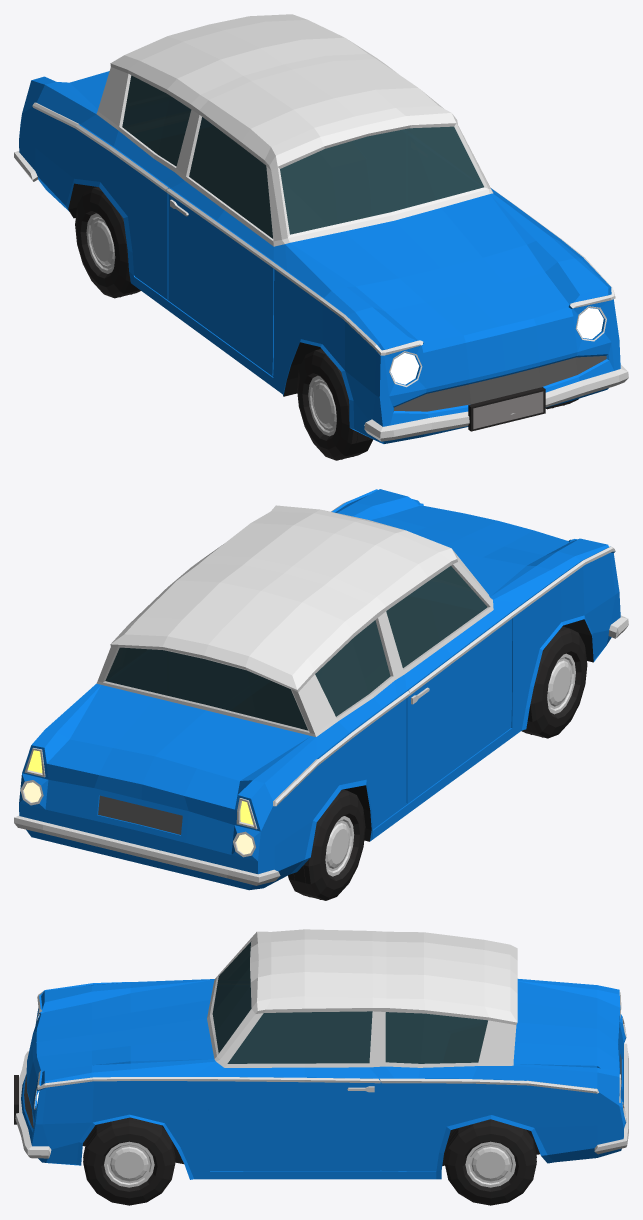
The picture shows the model from 3 angles, top to bottom: view 1: azimuth 30°, elevation 25°; view 2: azimuth 150°, elevation 25°; view 3: azimuth 270°, elevation 25°; orthographic projection. The views are drawn at different scales.
Parts seen in each view (by area): view 1: car_1, Tyre_2, Plane_3; view 2: car_1, Tyre_2; view 3: car_1, Tyre_2.
Boxes of the visible parts, x1,y1,x2,y2 form: car_1: [14, 14, 628, 443]; Tyre_2: [75, 187, 578, 460]; Plane_3: [468, 387, 545, 431]; car_1: [14, 489, 628, 890]; Tyre_2: [288, 626, 587, 900]; car_1: [15, 929, 628, 1179]; Tyre_2: [83, 1117, 536, 1205].
Bounding box in the file's own units: 1.53 × 1.45 × 3.93.
